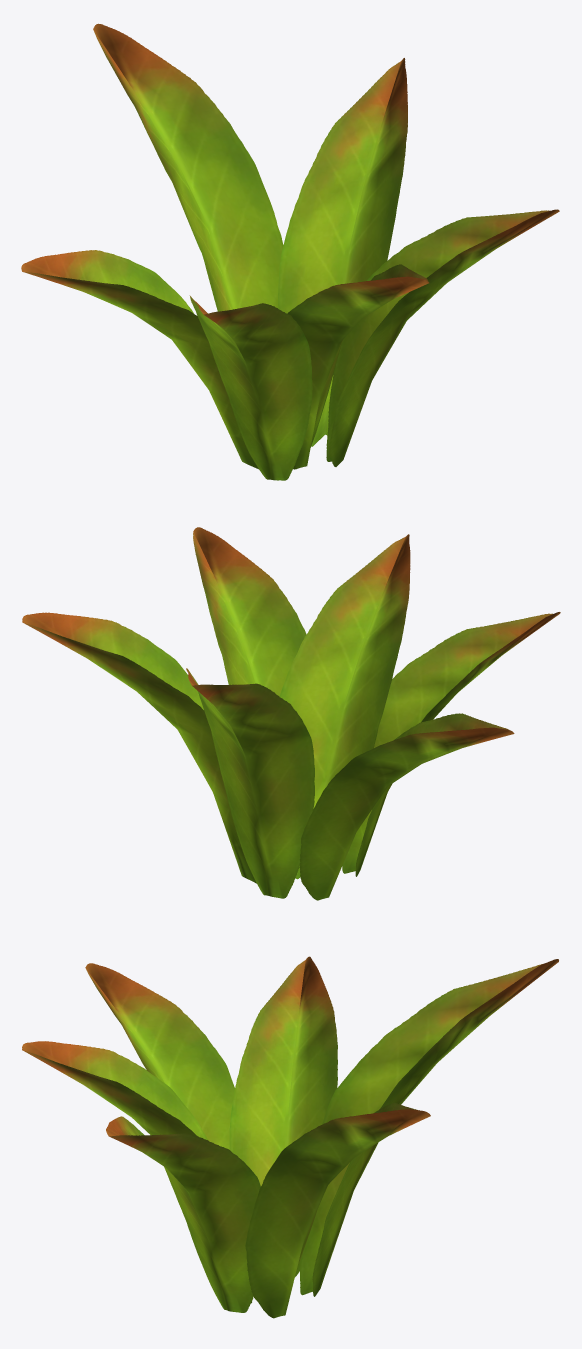
Rendered from Plant_1.gltf.
The picture shows the model from 3 angles, top to bottom: view 1: azimuth 30°, elevation 25°; view 2: azimuth 150°, elevation 25°; view 3: azimuth 270°, elevation 25°; orthographic projection. The views are drawn at different scales.
Parts seen in each view (by area): view 1: Plant_1; view 2: Plant_1; view 3: Plant_1.
Part boxes in pixels (box(x1,y1,x2,y2)): Plant_1: box(21, 23, 559, 480); Plant_1: box(22, 527, 560, 900); Plant_1: box(22, 956, 558, 1318).
Size of the model in its own units: 1.27 by 0.9581 by 1.39.
Materials: 1 (1 with a texture image).
